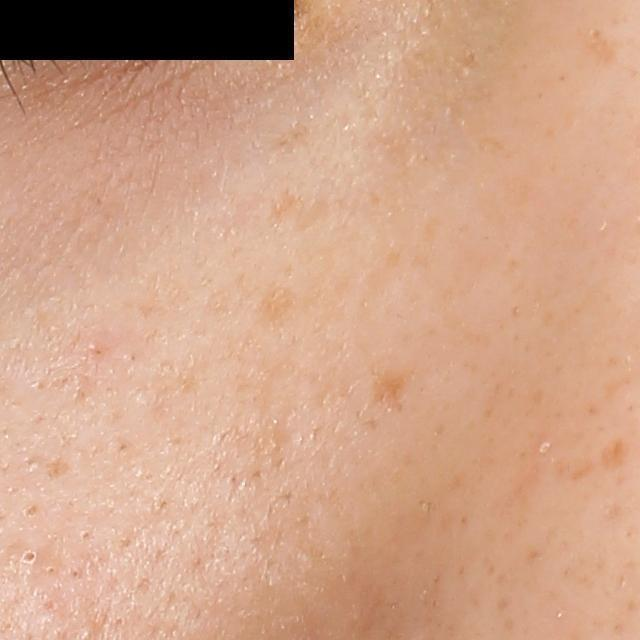comedo: (18, 500, 45, 523)
melasma: (367, 366, 418, 411), (575, 26, 621, 65), (256, 284, 297, 324), (271, 122, 313, 150)
